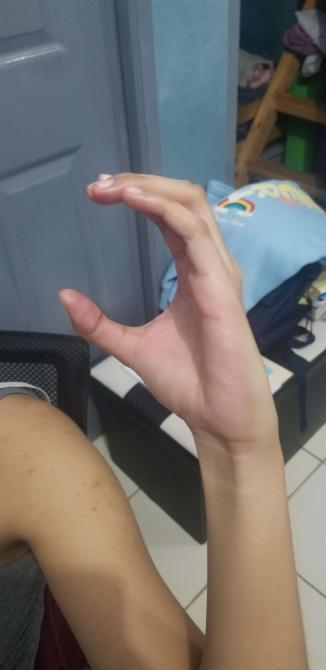c: (56, 166, 283, 425)
